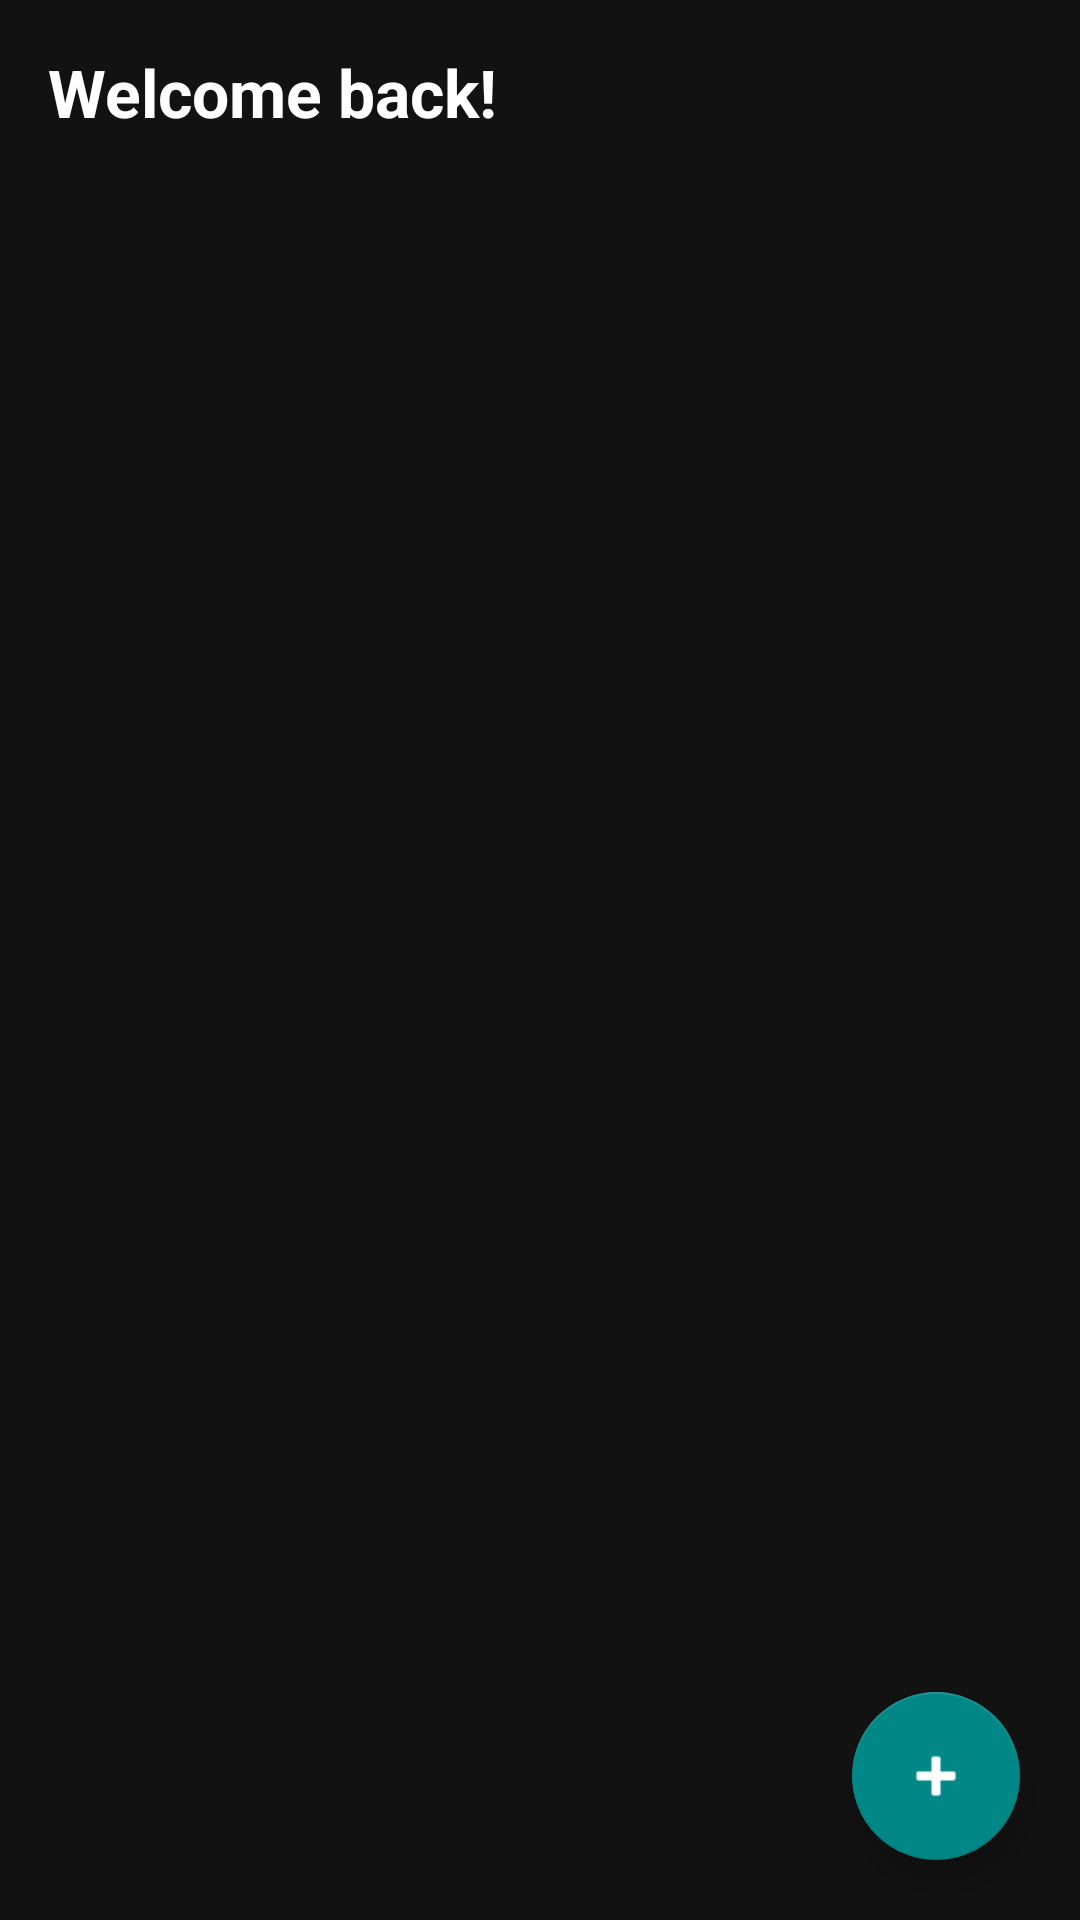

Named icons in this screenshot (1080×1920) and their bounding boxes, (x1, y1, x2, y2):
Add clothing: (852, 1692, 1020, 1860)
